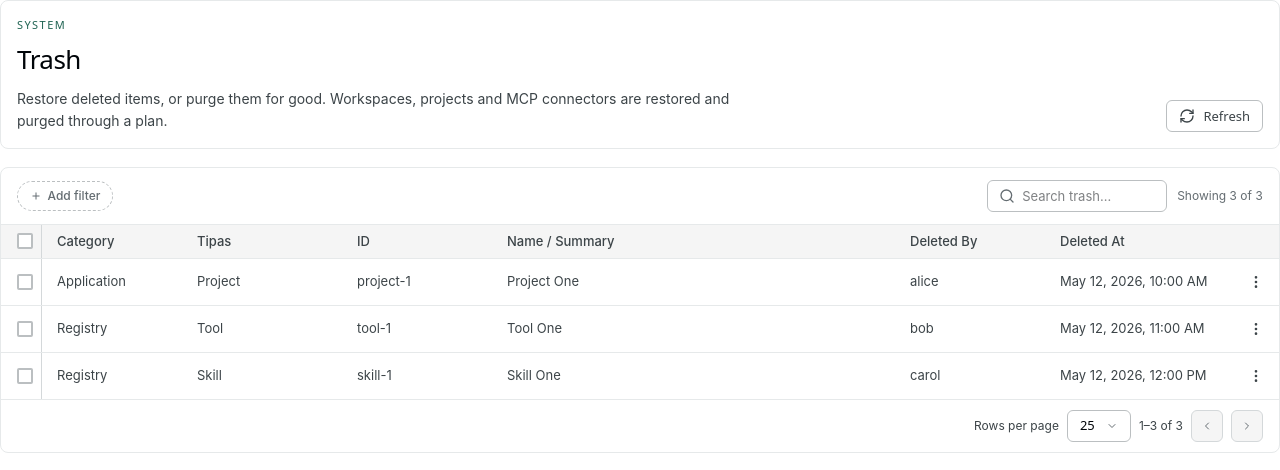
Test: TrashPage › uses noun Type translations for the trash column and filter without changing owner labels
The width and height of the screenshot is (1280, 470).
Expected: the text "Project One" is shown, [507,273,579,289]
Expected: the column heading "Tipas" is shown, [181,225,341,258]
What coordinates should you click on to do the following:
click the button "Add filter"
I would click on:
 (65, 196)
Its box is [17,181,113,211].
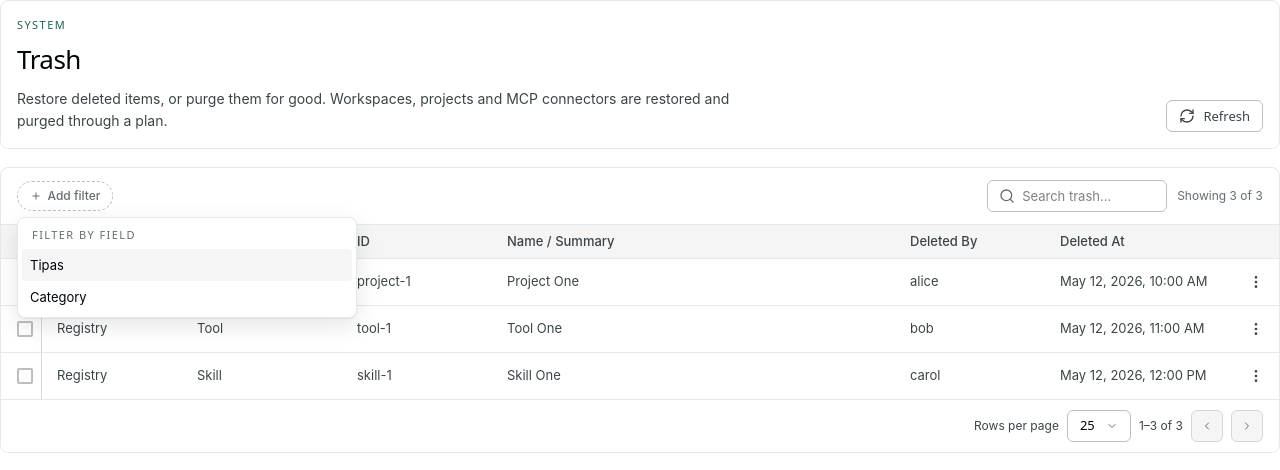
Expected: the text "Tool One" is shown, [507,320,562,336]
Result: the menu item "Tipas" is shown at [22,249,352,281]
